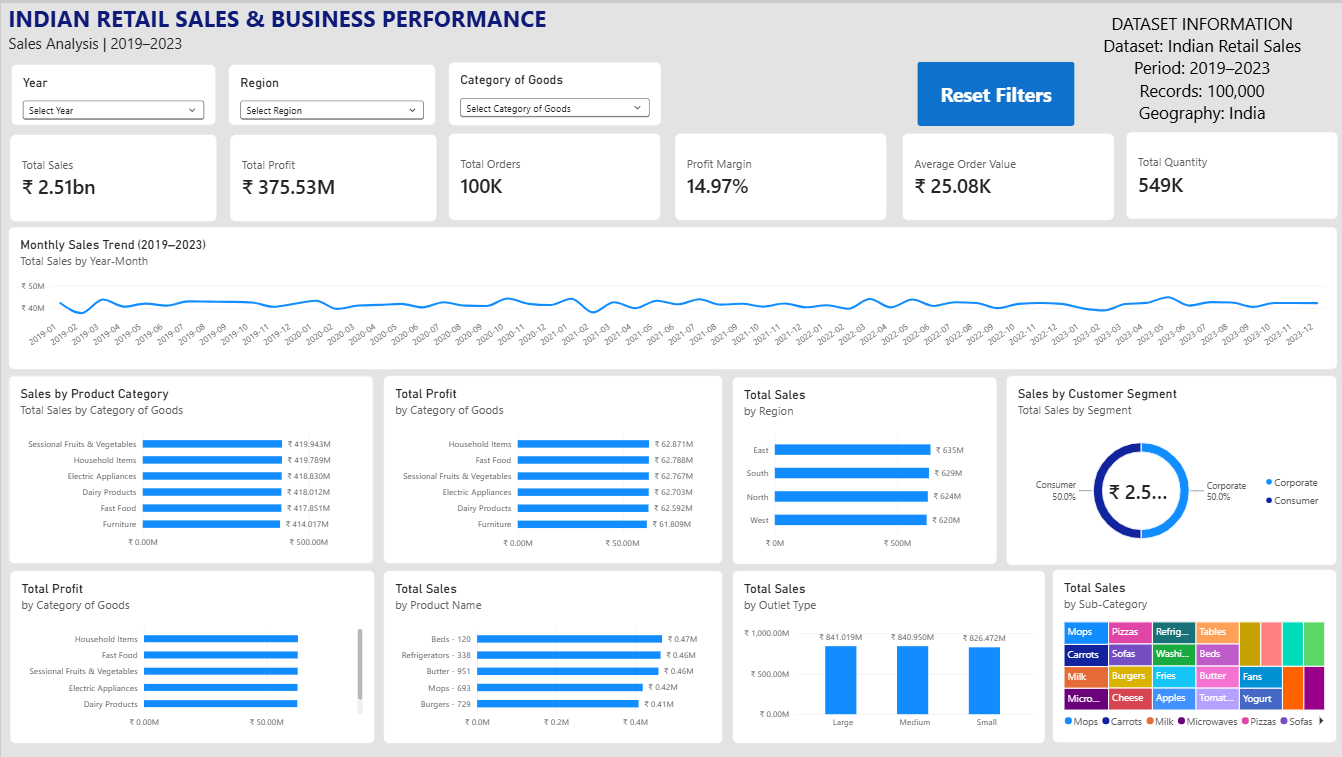

The page's visual inventory and layout, read from the dashboard file:
{"tool":"powerbi","page":{"name":"Sales Overview","canvas":[1920,1080],"ordinal":0},"visuals":[{"type":"textbox","box":[10.7,0,1089.2,116.4],"z":0},{"type":"cardVisual","fields":{"Data":["Fact_Sales.Total Sales"]},"box":[11.7,187,296.2,125.6],"z":1000},{"type":"cardVisual","fields":{"Data":["Fact_Sales.Total Profit"]},"box":[326.1,186.9,296.2,125.6],"z":2000},{"type":"cardVisual","fields":{"Data":["Fact_Sales.Total Orders"]},"box":[639.1,185.6,303.8,125.6],"z":3000},{"type":"cardVisual","fields":{"Data":["Fact_Sales.Profit Margin"]},"box":[962.2,186.2,303.8,125.6],"z":4000},{"type":"cardVisual","fields":{"Data":["Fact_Sales.Average Order Value"]},"box":[1287.7,186.2,303.9,126],"z":5000},{"type":"cardVisual","fields":{"Data":["Fact_Sales.Total Quantity"]},"box":[1607.9,184.3,303.9,126],"z":6000},{"type":"lineChart","title":"Monthly Sales Trend (2019–2023)","fields":{"Category":["Dim_Date.Year-Month"],"Y":["Fact_Sales.Total Sales"]},"box":[10.6,320.2,1898.7,203.8],"z":7000},{"type":"clusteredBarChart","title":"Sales by Product Category","fields":{"Category":["Fact_Sales.Category of Goods"],"Y":["Fact_Sales.Total Sales"]},"box":[10.6,533,521.3,268.9],"z":8000},{"type":"clusteredBarChart","fields":{"Category":["Fact_Sales.Region"],"Y":["Fact_Sales.Total Sales"]},"box":[1043.9,534.1,378,268.3],"z":9000},{"type":"clusteredBarChart","fields":{"Category":["Fact_Sales.Category of Goods"],"Y":["Fact_Sales.Total Profit"]},"box":[11.7,810.6,521.8,247.3],"z":10000},{"type":"clusteredBarChart","fields":{"Category":["Fact_Sales.Category of Goods"],"Y":["Fact_Sales.Total Profit"]},"box":[545.7,533,485.1,269.1],"z":11000},{"type":"donutChart","title":"Sales by Customer Segment","fields":{"Category":["Fact_Sales.Segment"],"Y":["Fact_Sales.Total Sales"]},"box":[1435.6,532.2,472.9,271.2],"z":12000},{"type":"listSlicer","fields":{"Values":["Dim_Date.Year"]},"box":[14.5,87.3,292.7,87.3],"z":13000},{"type":"listSlicer","fields":{"Values":["Fact_Sales.Region"]},"box":[325.5,87.3,296.4,87.3],"z":14000},{"type":"listSlicer","fields":{"Values":["Fact_Sales.Category of Goods"]},"box":[640,83.6,303.6,90.9],"z":15000},{"type":"clusteredBarChart","fields":{"Category":["Fact_Sales.Product Name"],"Y":["Fact_Sales.Total Sales"]},"box":[545.8,810.2,485,247],"z":16000},{"type":"clusteredColumnChart","fields":{"Category":["Fact_Sales.Outlet Type"],"Y":["Fact_Sales.Total Sales"]},"box":[1044.1,810.2,447.5,247.5],"z":17000},{"type":"treemap","fields":{"Group":["Fact_Sales.Sub-Category"],"Values":["Fact_Sales.Total Sales"]},"box":[1501.6,809.7,406.5,248.4],"z":18000},{"type":"actionButton","box":[1308.3,83.3,225,91.7],"z":18001},{"type":"textbox","box":[1522.9,12.5,385.4,162.5],"z":18002}]}

Visuals, with their boxes in screenshot pixels (x1, y1, x2, y2), scaled from the page's 1920x1080 canvas onto the 1342x757 screenshot:
textbox: [7,0,769,82]
cardVisual - Fact_Sales.Total Sales: [8,131,215,219]
cardVisual - Fact_Sales.Total Profit: [228,131,435,219]
cardVisual - Fact_Sales.Total Orders: [447,130,659,218]
cardVisual - Fact_Sales.Profit Margin: [673,131,885,219]
cardVisual - Fact_Sales.Average Order Value: [900,131,1112,219]
cardVisual - Fact_Sales.Total Quantity: [1124,129,1336,217]
"Monthly Sales Trend (2019–2023)" lineChart: [7,224,1335,367]
"Sales by Product Category" clusteredBarChart: [7,374,372,562]
clusteredBarChart - Fact_Sales.Region x Fact_Sales.Total Sales: [730,374,994,562]
clusteredBarChart - Fact_Sales.Category of Goods x Fact_Sales.Total Profit: [8,568,373,742]
clusteredBarChart - Fact_Sales.Category of Goods x Fact_Sales.Total Profit: [381,374,720,562]
"Sales by Customer Segment" donutChart: [1003,373,1334,563]
listSlicer - Dim_Date.Year: [10,61,215,122]
listSlicer - Fact_Sales.Region: [228,61,435,122]
listSlicer - Fact_Sales.Category of Goods: [447,59,660,122]
clusteredBarChart - Fact_Sales.Product Name x Fact_Sales.Total Sales: [381,568,720,741]
clusteredColumnChart - Fact_Sales.Outlet Type x Fact_Sales.Total Sales: [730,568,1043,741]
treemap - Fact_Sales.Sub-Category x Fact_Sales.Total Sales: [1050,568,1334,742]
actionButton: [914,58,1072,123]
textbox: [1064,9,1334,123]
